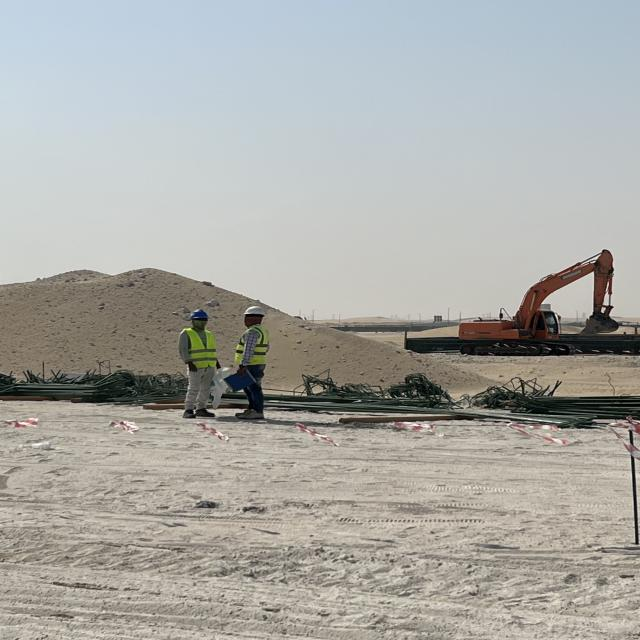Excavator: (456, 243, 618, 360)
